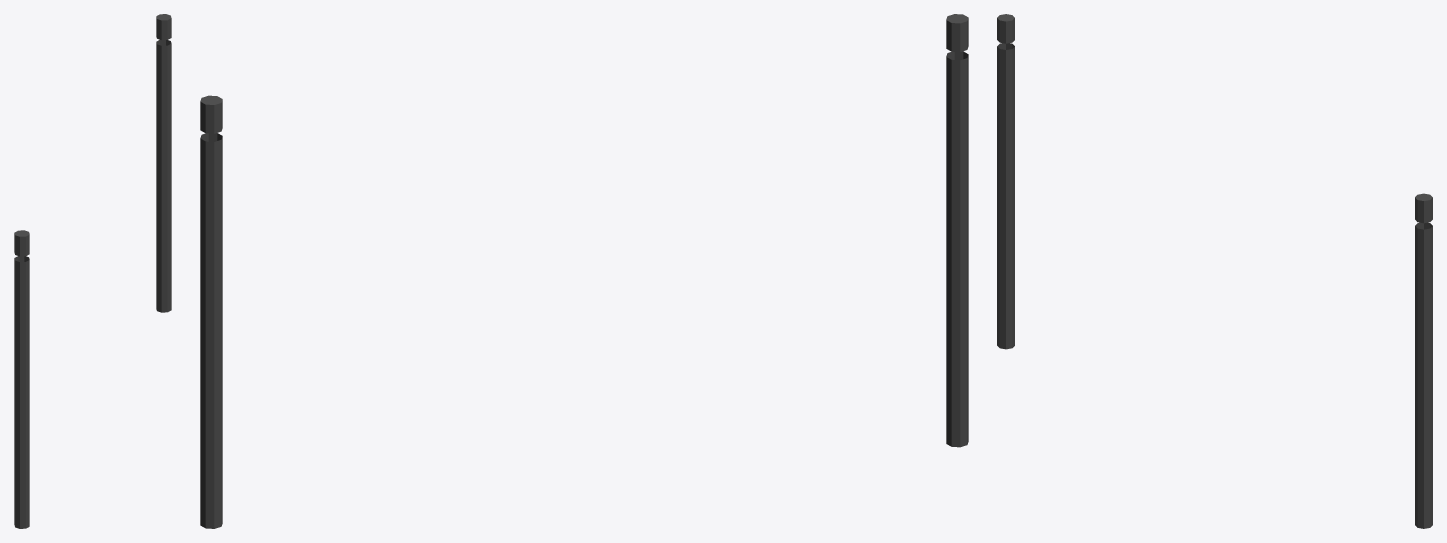
File: buildig.003_metal_(dark)_0_lev3.glb
The picture shows the model from 3 angles, left to right: view 1: azimuth 30°, elevation 25°; view 2: azimuth 150°, elevation 25°; view 3: azimuth 270°, elevation 25°; orthographic projection. The views are drawn at different scales.
Visible parts, largest first — view 1: buildig.003_metal_(dark)_0_lev3; view 2: buildig.003_metal_(dark)_0_lev3; view 3: buildig.003_metal_(dark)_0_lev3.
Boxes of the visible parts, x1,y1,x2,y2 form: buildig.003_metal_(dark)_0_lev3: [14, 14, 171, 528]; buildig.003_metal_(dark)_0_lev3: [200, 14, 968, 528]; buildig.003_metal_(dark)_0_lev3: [997, 14, 1432, 528].
Size of the model in its own units: 0.6619 by 0.5407 by 0.6514.
1 material, 1 textured.
